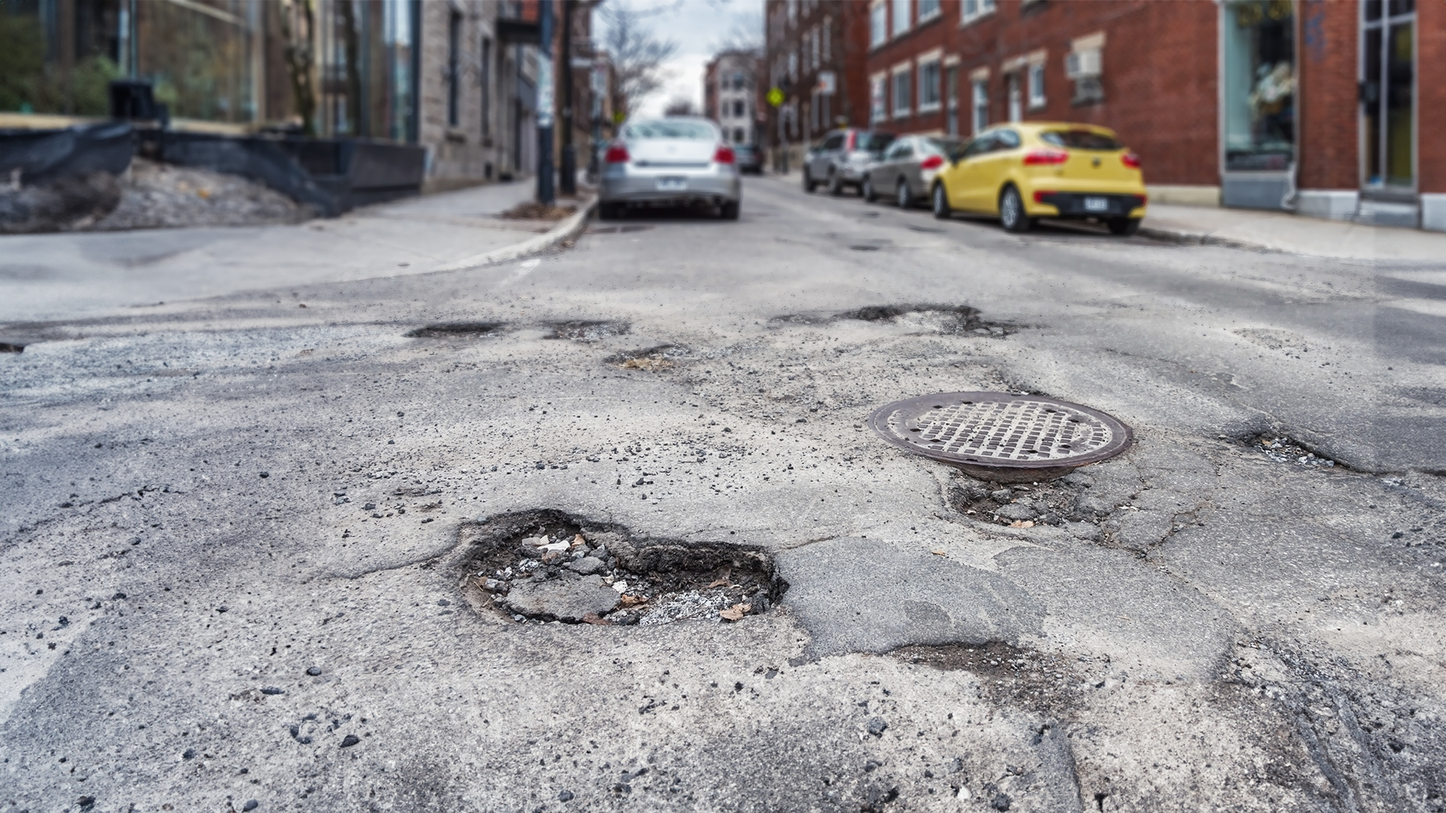Car: (943, 114, 1164, 249), (582, 109, 755, 235)
Hole_in_the_road: (396, 485, 832, 672)
